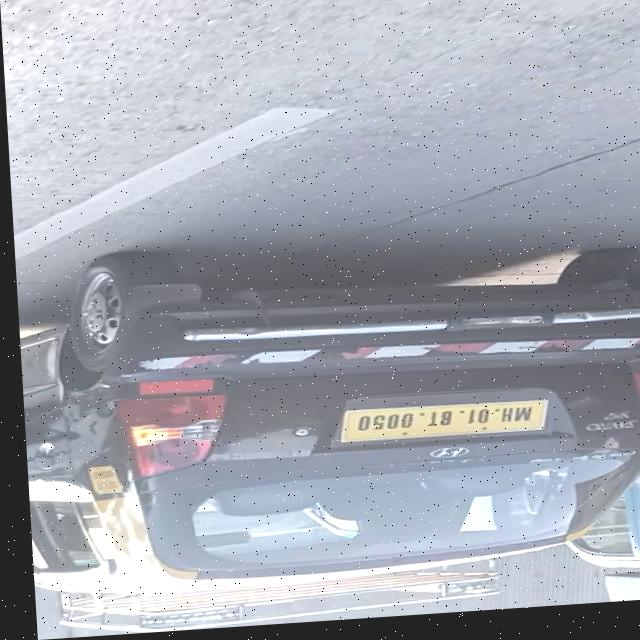plate: (317, 399, 550, 454)
